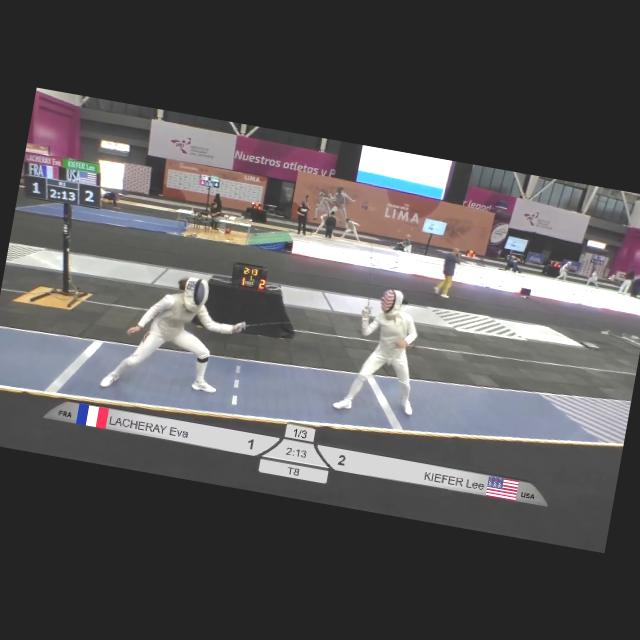blade: (235, 299, 334, 353), (346, 224, 388, 319)
